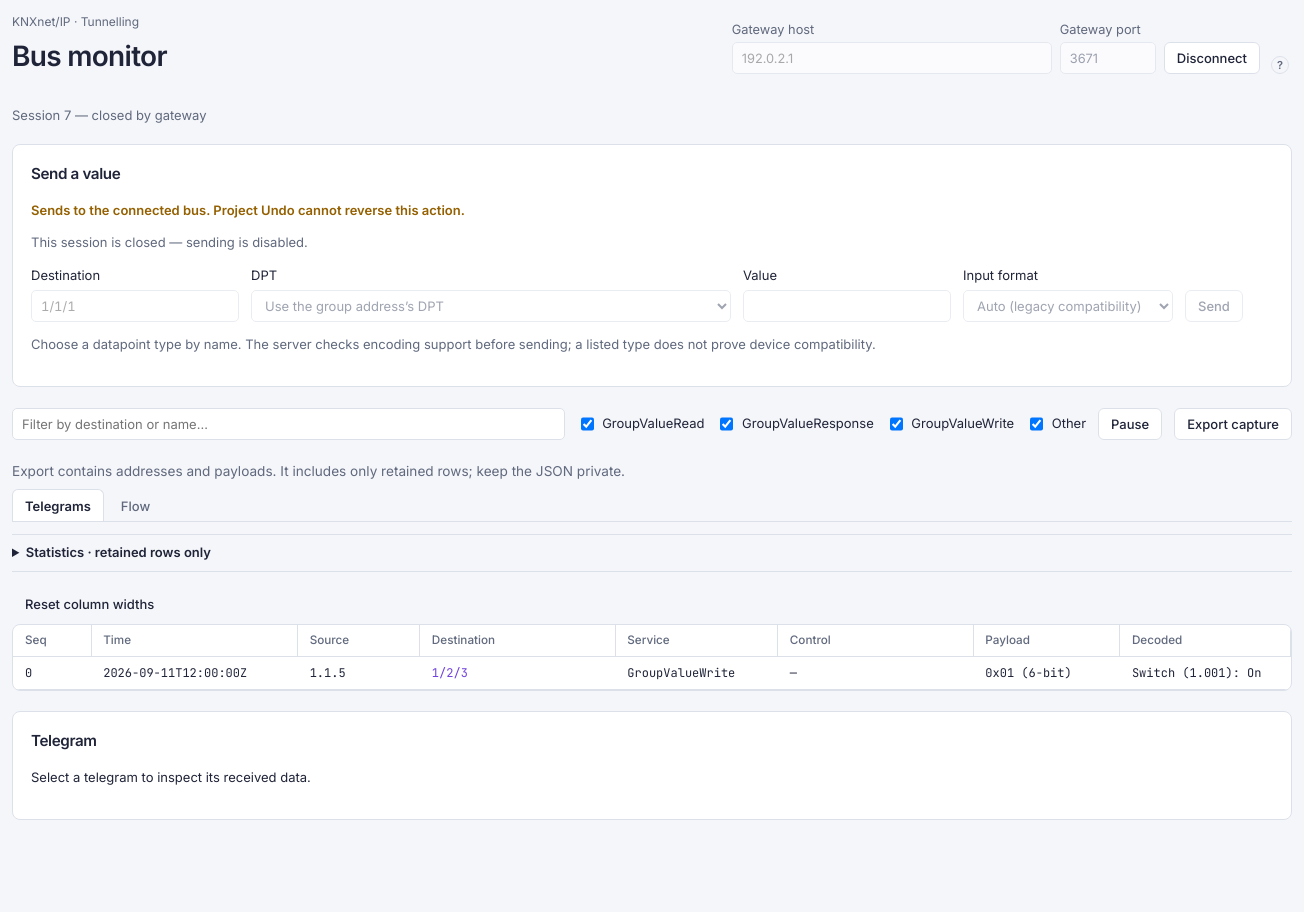
BusMonitorPanel › mount-time reattach › reattaches to a session the gateway already closed — rows shown read-only, Stop still works
Expected: the text with class "bus-monitor-session" shows "closed by gateway", [71, 107, 206, 123]
Expected: the table with class "bus-monitor-table" is shown, [13, 625, 1291, 690]
Click the button "Disconnect".
click(1212, 58)  # box [1164, 42, 1260, 74]
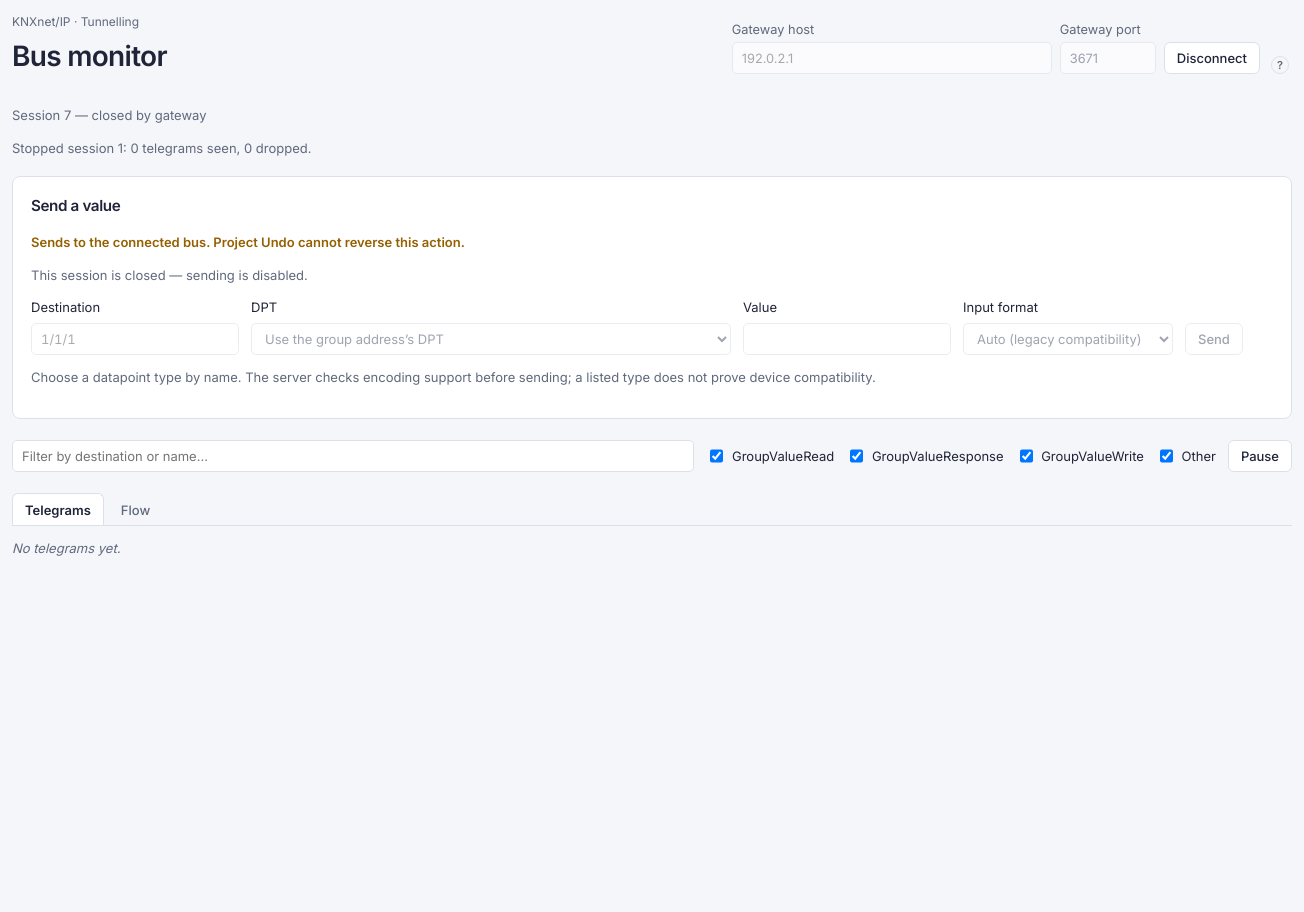
Now the text "Stopped session" is shown, box [12, 140, 312, 156]
